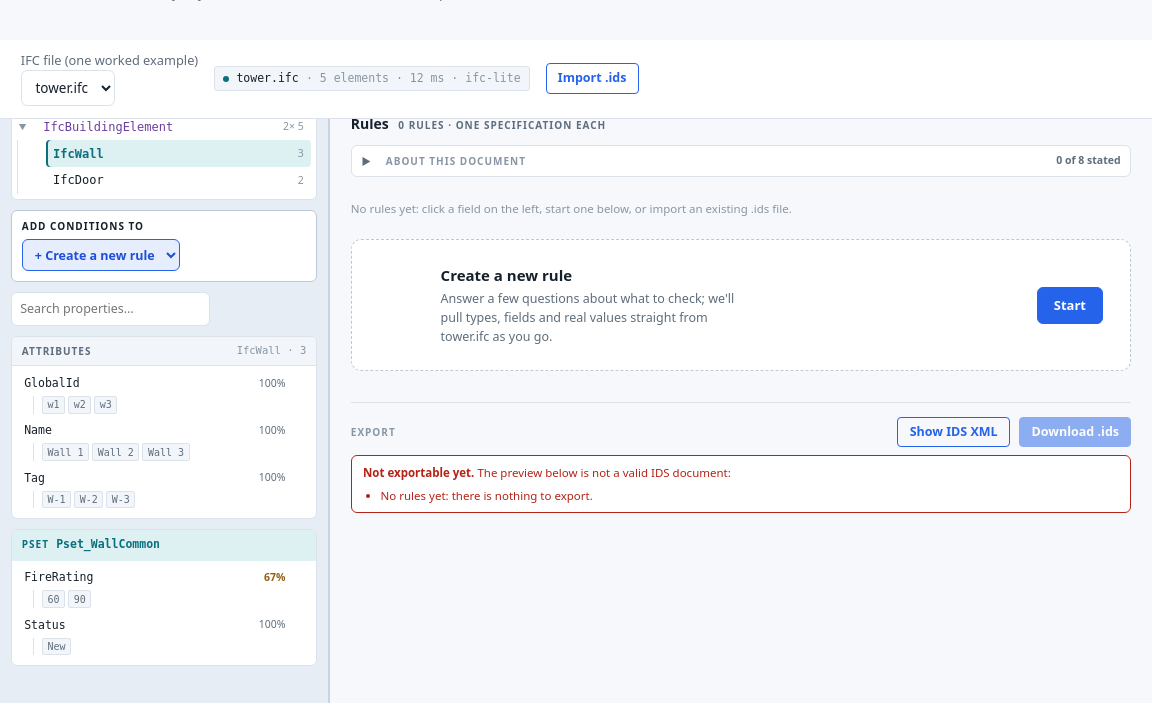
Test: RuleBuilderPage › starts a second rule from a field click even though one already exists
(page scrolled)
Check: the list "▼ IfcBuildingElement 2× 5 IfcWall 3 IfcDoor 2" is shown, box [17,113,311,194]
Click the button "FireRating 67%".
click(59, 577)  # box [17,565,311,590]
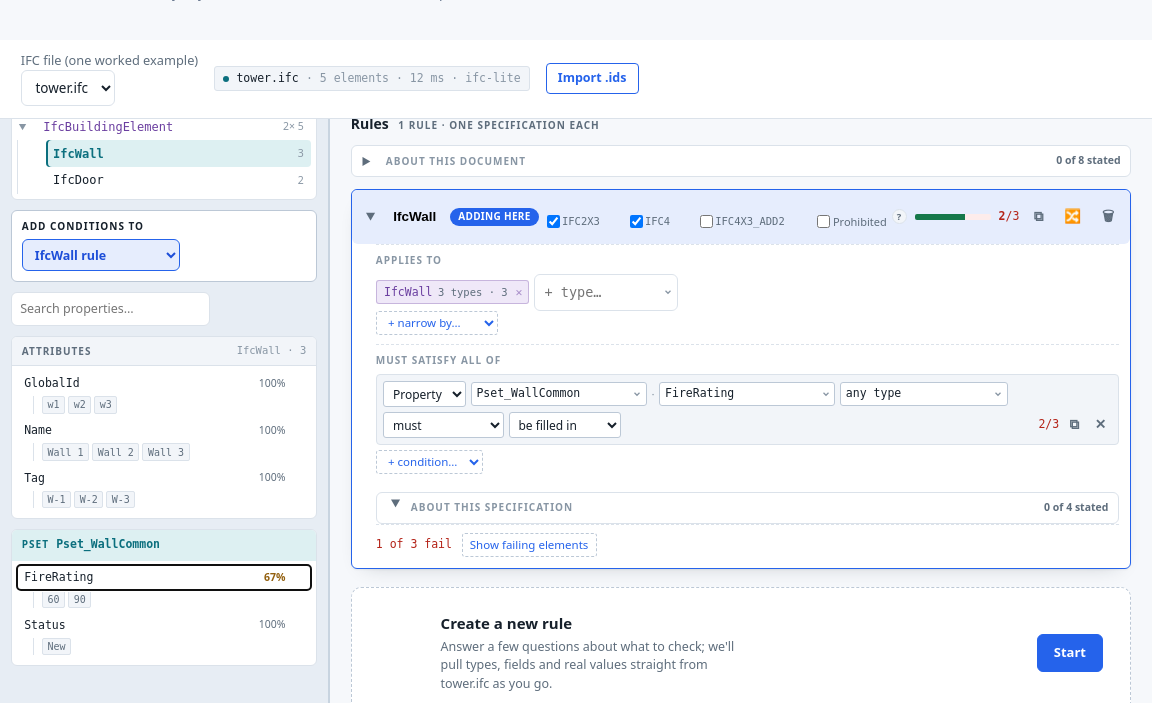
Check: the number of fields named "Rule name" is 1, box [387,206,442,227]
Check: the dropdown labelled "Add conditions to" shows "IfcWall rule"
Select "+ Create a new rule" in the dropdown labelled "Add conditions to" at x=101, y=255, box [22,239,180,272]
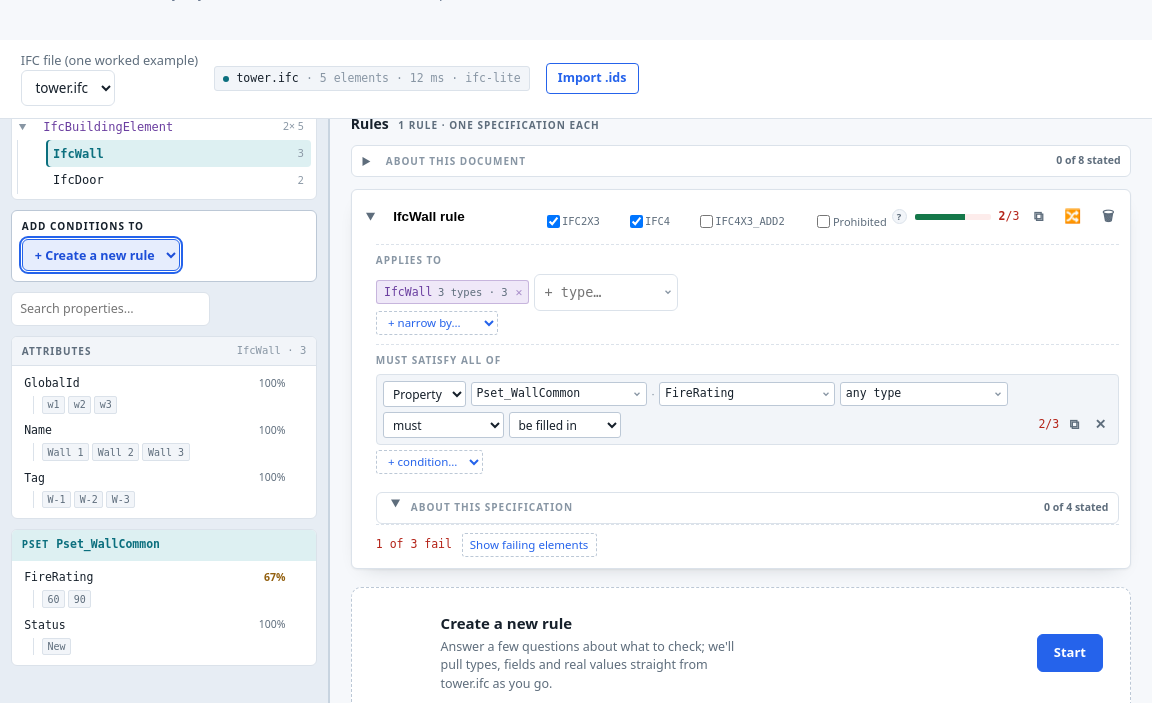
Click the button "Status 100%".
click(45, 625)  # box [17,613,311,638]
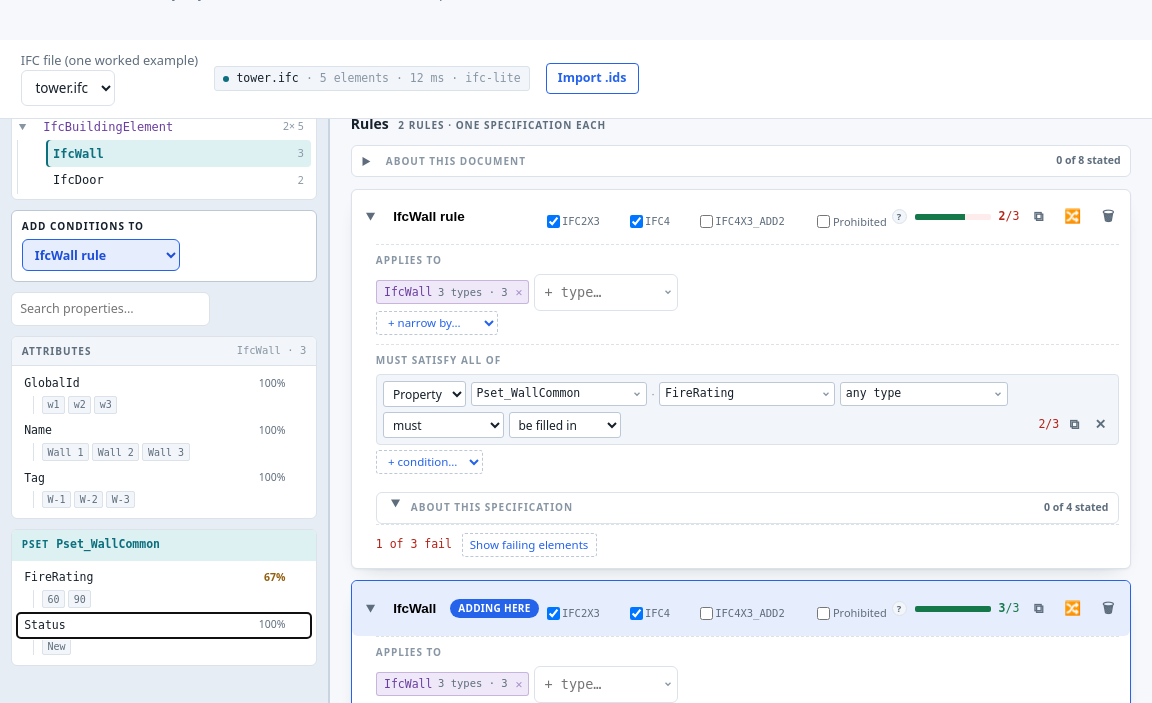
Check: the number of fields named "Rule name" is 2, box [387,206,539,227]; [387,598,442,619]
